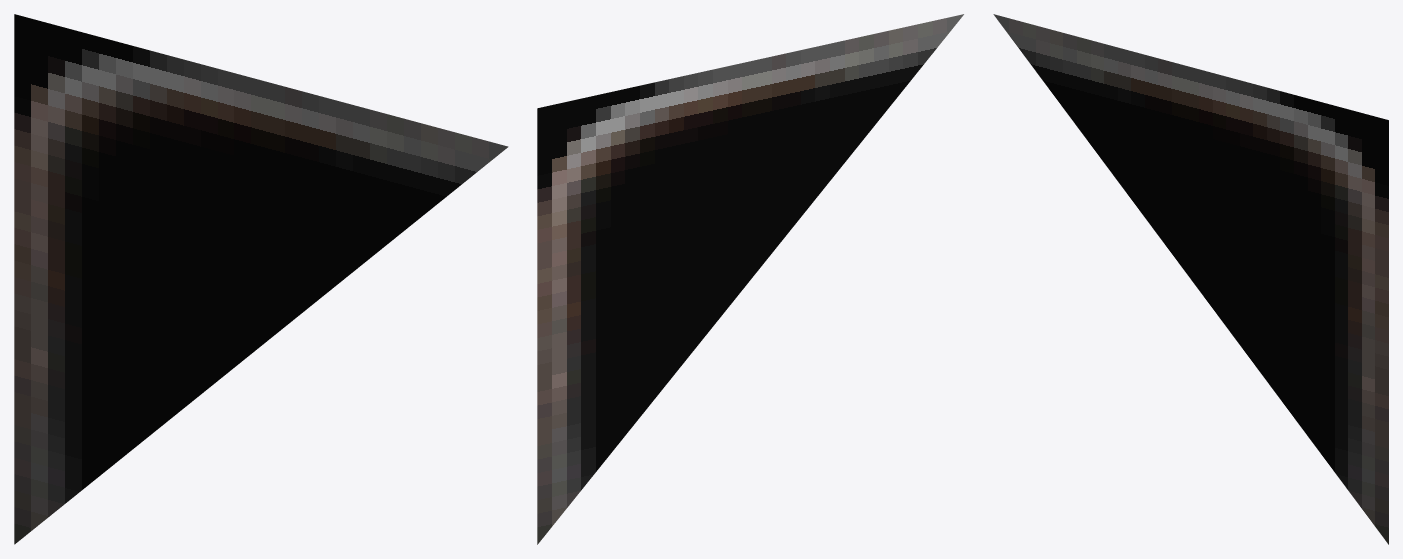
File: gas_can_secondary.glb
The picture shows the model from 3 angles, left to right: view 1: azimuth 90°, elevation 25°; view 2: azimuth 150°, elevation 25°; view 3: azimuth 270°, elevation 25°; orthographic projection. The views are drawn at different scales.
Visible parts, largest first — view 1: Object; view 2: Object; view 3: Object.
Boxes of the visible parts, box(x1,y1,x2,y2) form: Object: box(14, 14, 508, 544); Object: box(537, 14, 963, 544); Object: box(993, 14, 1388, 544).
Size of the model in its own units: 0.177 by 0.3303 by 0.2788.
Materials: 1 (1 with a texture image).
